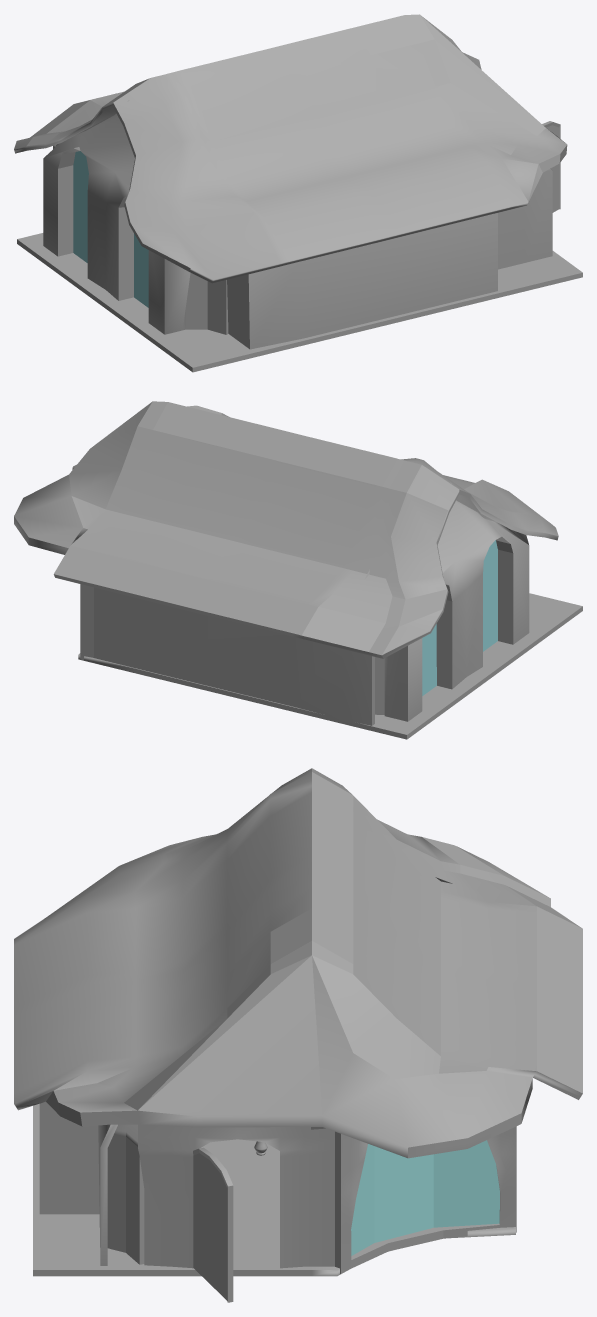
File: room uv unwrapped.fbx
3 views of the same model, one above another, from view 1: azimuth 30°, elevation 25°; view 2: azimuth 150°, elevation 25°; view 3: azimuth 270°, elevation 25° (orthographic). The views are drawn at different scales.
Visible parts, largest first — view 1: pasted__pasted__pCube2, wall_1, back_wall, floor, windows_glass, pasted__pasted__pasted__pCube2, pCube3; view 2: pasted__pasted__pCube2 (×2), pasted__wall_1, back_wall, floor, windows_glass, arch_window; view 3: pasted__pasted__pCube2, pCube2, floor, window, wall_1, arch_window, pCube3, pasted__pCube2.
Boxes of the visible parts, box(x1,y1,x2,y2) form: pasted__pasted__pCube2: box(14, 14, 567, 283); wall_1: box(227, 169, 552, 349); back_wall: box(43, 113, 190, 334); floor: box(17, 233, 582, 372); windows_glass: box(73, 151, 148, 307); pasted__pasted__pasted__pCube2: box(185, 273, 228, 334); pCube3: box(542, 121, 560, 212); pasted__pasted__pCube2 (×2): box(14, 401, 558, 714); pasted__wall_1: box(94, 587, 374, 725); back_wall: box(364, 500, 529, 721); floor: box(78, 593, 582, 739); windows_glass: box(422, 540, 497, 695); arch_window: box(80, 584, 93, 659); pasted__pasted__pCube2: box(14, 768, 582, 1158); pCube2: box(138, 1124, 334, 1268); floor: box(33, 1103, 515, 1276); window: box(351, 1140, 499, 1255); wall_1: box(39, 1101, 117, 1265); arch_window: box(335, 1126, 516, 1273); pCube3: box(193, 1147, 233, 1302); pasted__pCube2: box(107, 1124, 144, 1264).
Size of the model in its own units: 28.75 by 12.57 by 22.83.
